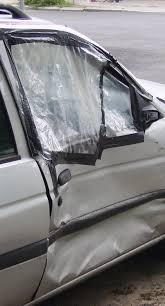Broken-glass: (1, 34, 147, 140)
Dent: (43, 164, 165, 283)
